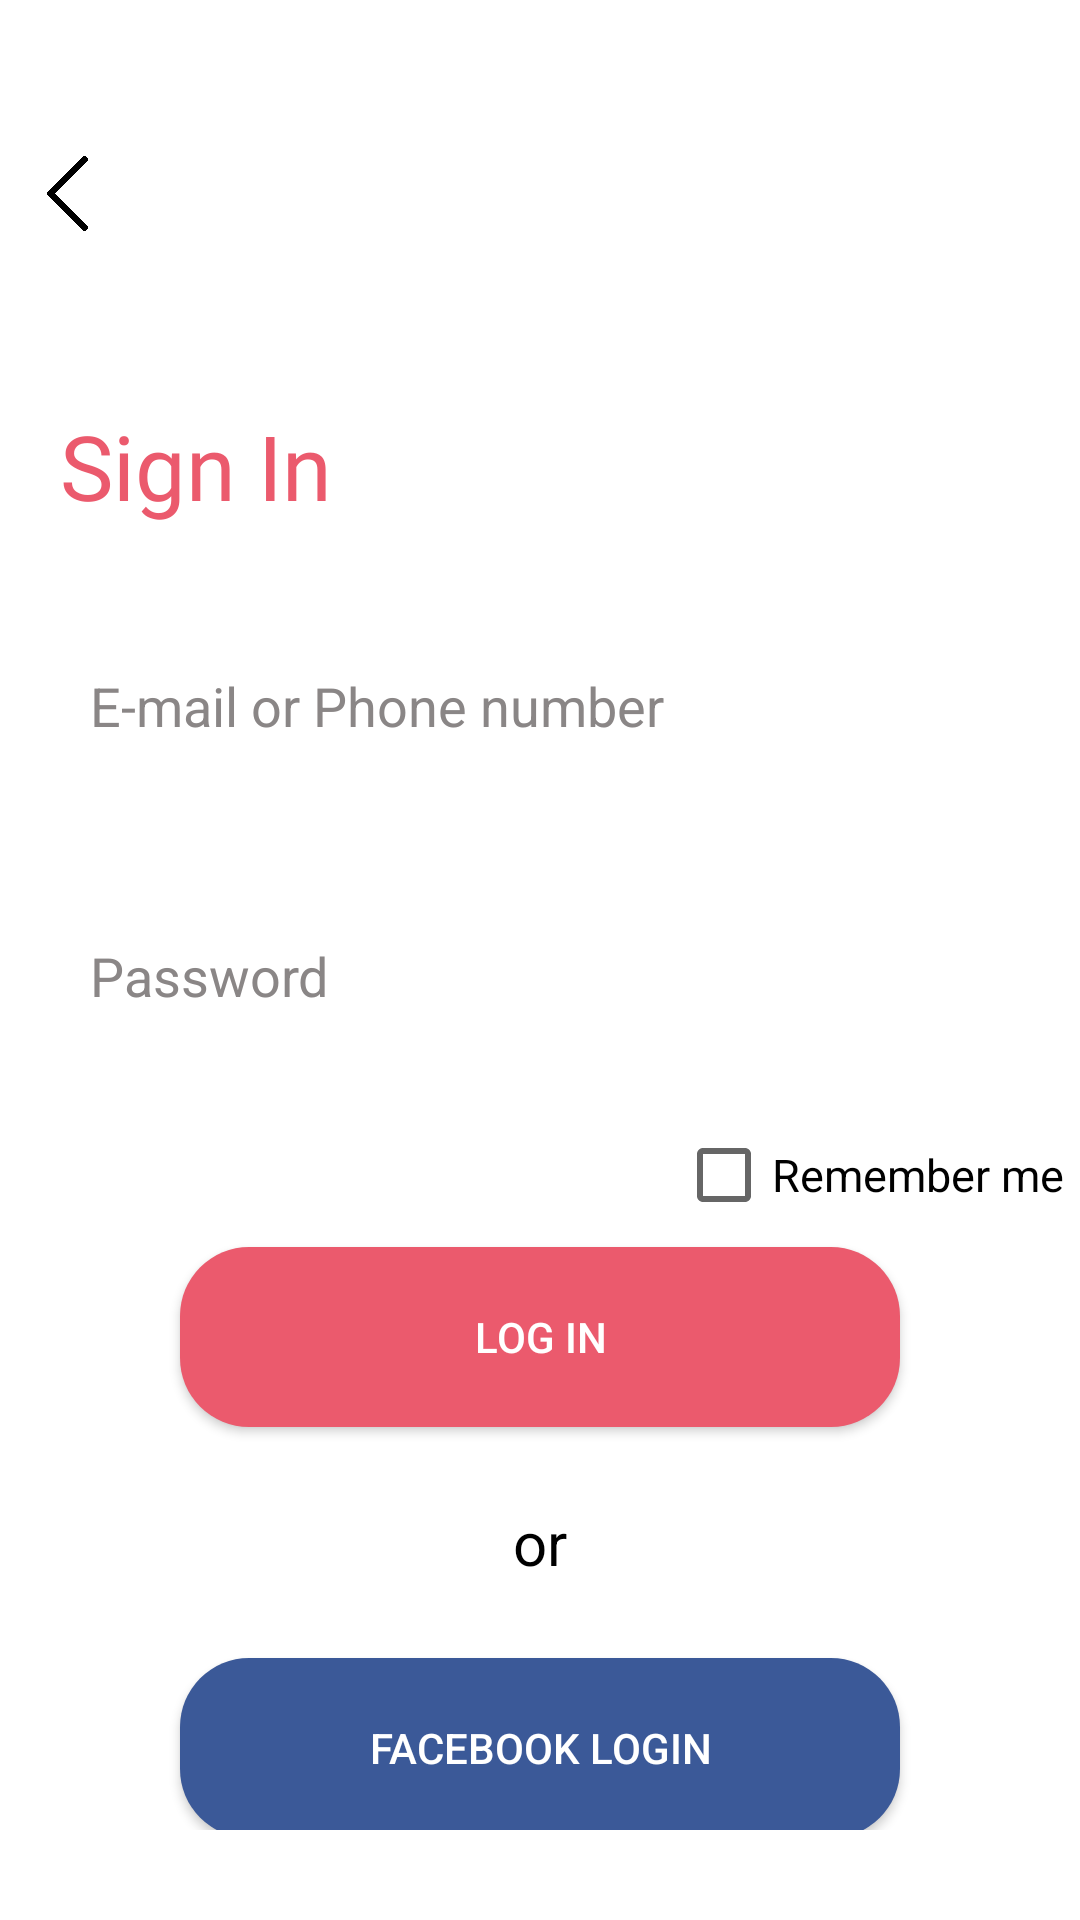

Point at icon controls on the screen. Image size 1080*1920, points as (x=x, y=y).
back arrow: (x=67, y=193)
